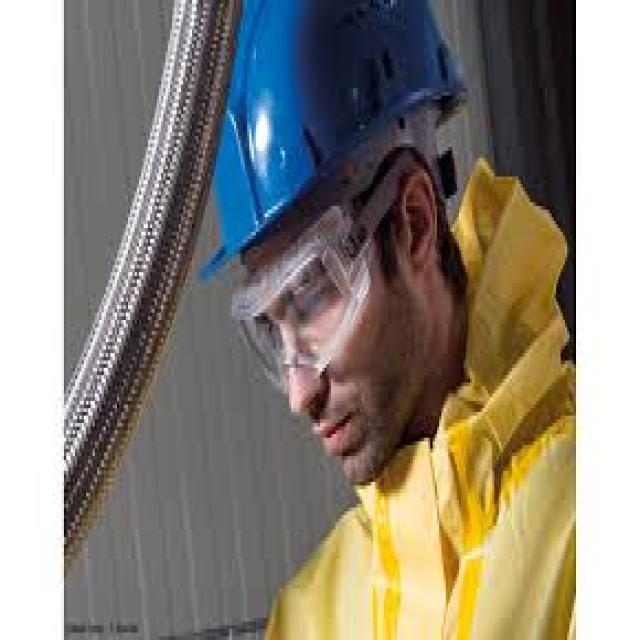glasses: (224, 202, 372, 386)
